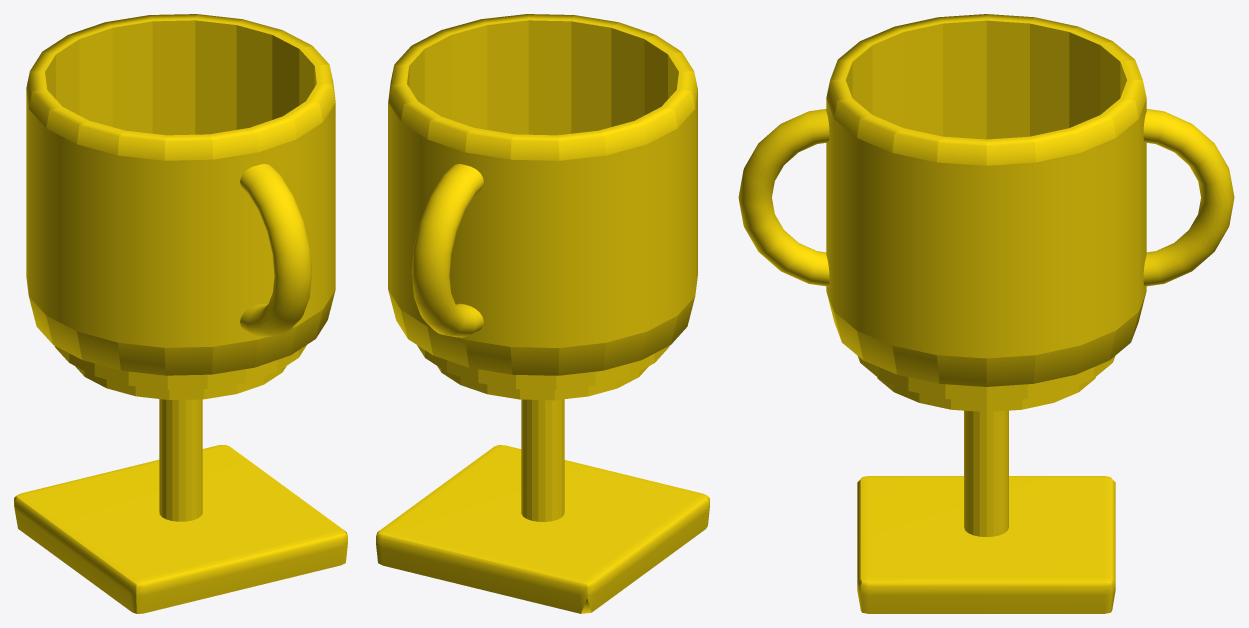
Rendered from trophy.fbx.
The picture shows the model from 3 angles, left to right: view 1: azimuth 30°, elevation 25°; view 2: azimuth 150°, elevation 25°; view 3: azimuth 270°, elevation 25°; orthographic projection. The views are drawn at different scales.
Visible parts, largest first — view 1: pCylinder2; view 2: pCylinder2; view 3: pCylinder2.
Part boxes in pixels (bbox=[...]): pCylinder2: bbox=[14, 14, 347, 613]; pCylinder2: bbox=[376, 14, 709, 613]; pCylinder2: bbox=[738, 14, 1234, 613].
Size of the model in its own units: 2 by 3.32 by 3.1.
